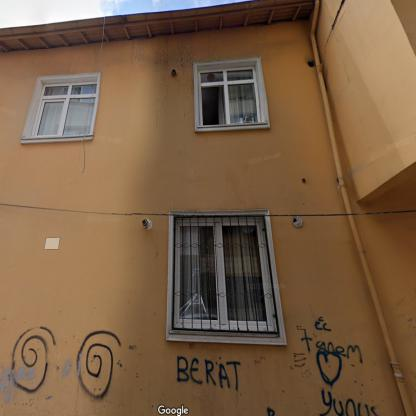window: (178, 226, 268, 322), (199, 68, 260, 126), (35, 84, 96, 136)
